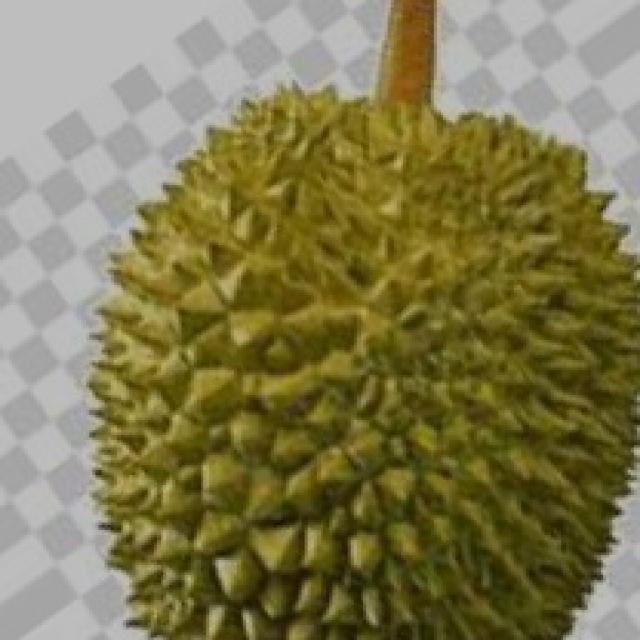fruit: (31, 290, 384, 640), (307, 282, 640, 639)
